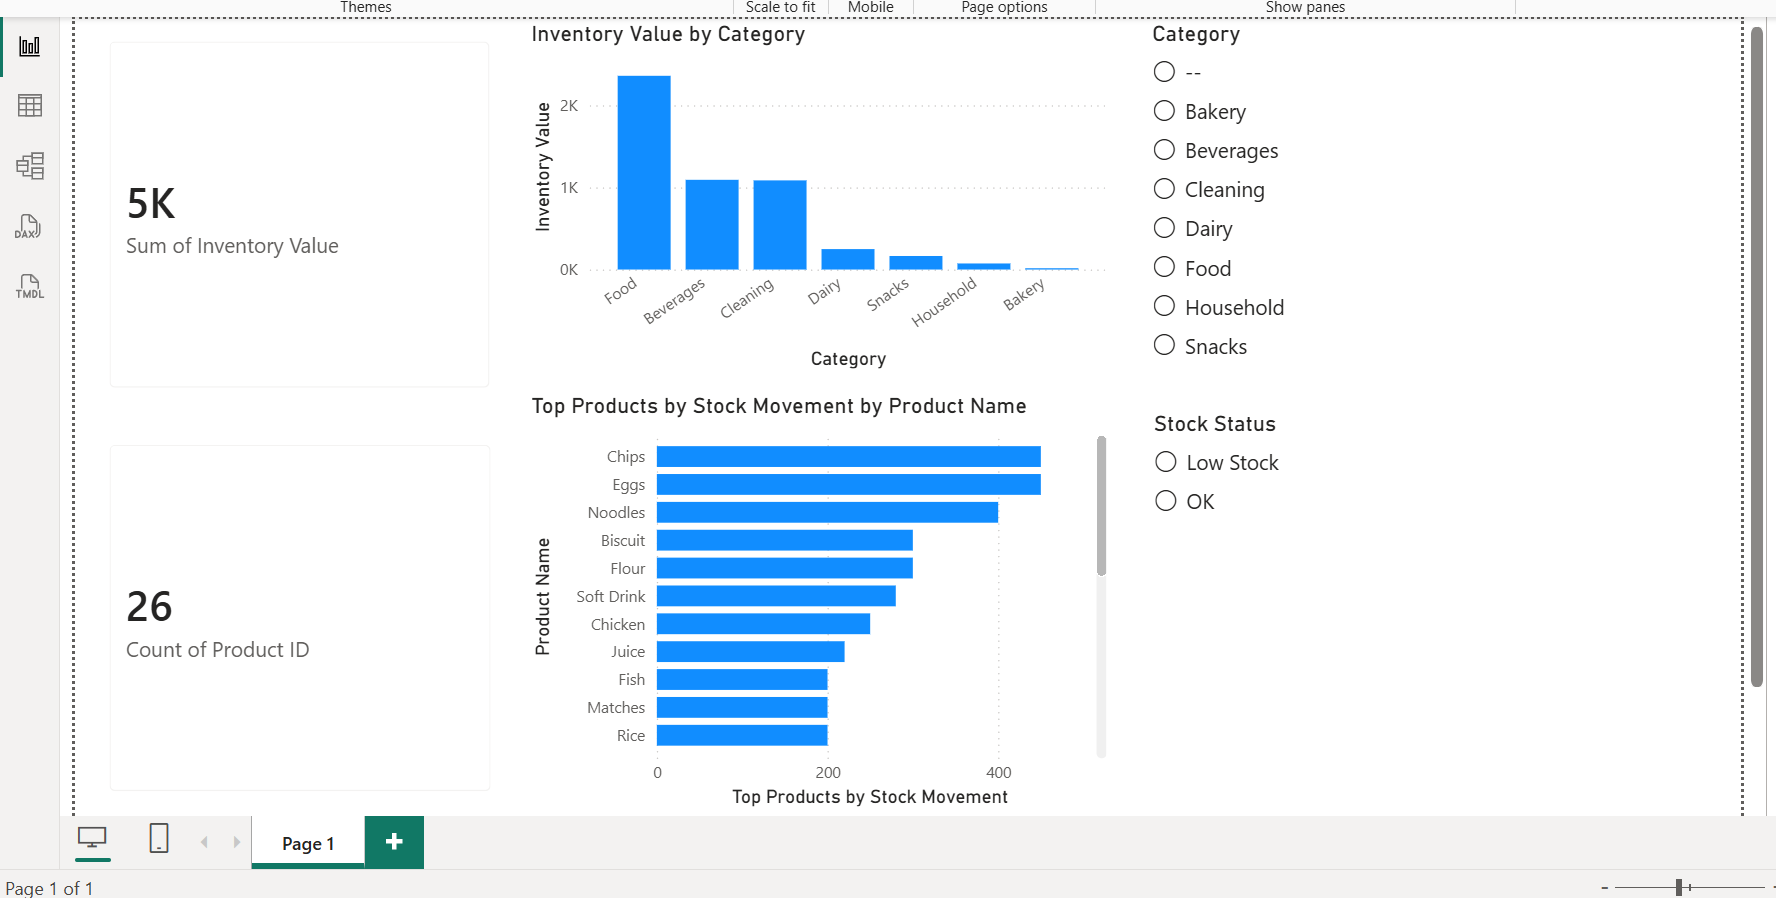

Layout of this report page (visuals, bound fields, positions):
{"tool":"powerbi","page":{"name":"Page 1","canvas":[1280,720],"ordinal":0},"visuals":[{"type":"cardVisual","fields":{"Data":["Sum(Sheet1.Inventory Value )"]},"box":[9.4,0,326.9,300.5],"z":0},{"type":"cardVisual","fields":{"Data":["Count(Sheet1.Product ID)"]},"box":[9,310,327,300],"z":1000},{"type":"clusteredColumnChart","fields":{"Y":["Sum(Sheet1.Inventory Value )"],"Category":["Sheet1.Category"]},"box":[345.8,1.2,451.9,272.1],"z":2000},{"type":"clusteredBarChart","fields":{"Category":["Sheet1.Product Name"],"Y":["Sum(Sheet1.Stock Out)"]},"box":[345.8,287,451.9,322.8],"z":3000},{"type":"listSlicer","fields":{"Values":["Sheet1.Category"]},"box":[823.1,1.2,427.7,299.7],"z":4000},{"type":"listSlicer","fields":{"Values":["Sheet1.Stock Status "]},"box":[824.3,300.9,426.5,299.7],"z":6000}]}

Visuals, with their boxes on the page's 1280x720 design canvas (x1, y1, x2, y2). These are canvas units, not pixel positions in the 1776x898 screenshot, which may show the page scaled, cropped or inside an application window:
cardVisual - Sum(Sheet1.Inventory Value ): pyautogui.locateOnScreen(9, 0, 336, 300)
cardVisual - Count(Sheet1.Product ID): pyautogui.locateOnScreen(9, 310, 336, 610)
clusteredColumnChart - Sum(Sheet1.Inventory Value ) x Sheet1.Category: pyautogui.locateOnScreen(346, 1, 798, 273)
clusteredBarChart - Sheet1.Product Name x Sum(Sheet1.Stock Out): pyautogui.locateOnScreen(346, 287, 798, 610)
listSlicer - Sheet1.Category: pyautogui.locateOnScreen(823, 1, 1251, 301)
listSlicer - Sheet1.Stock Status : pyautogui.locateOnScreen(824, 301, 1251, 601)
